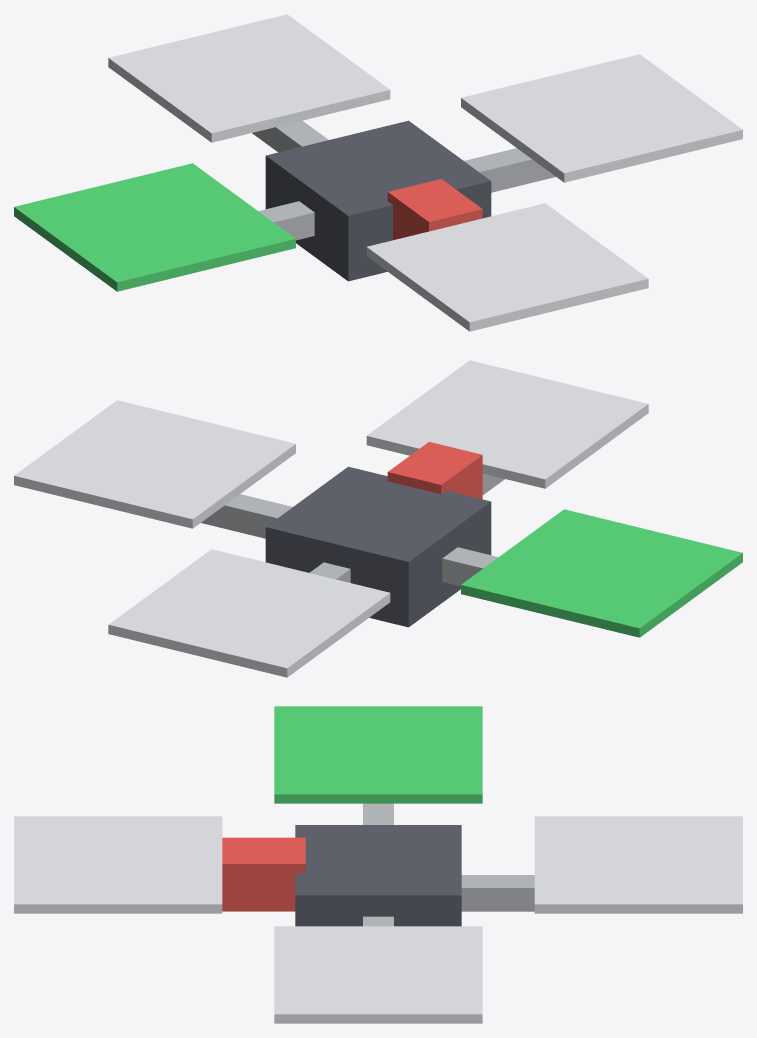
The model's file is drone.gltf.
The picture shows the model from 3 angles, top to bottom: view 1: azimuth 30°, elevation 25°; view 2: azimuth 150°, elevation 25°; view 3: azimuth 270°, elevation 25°; orthographic projection.
Parts seen in each view (by area): view 1: rotors, starboard, body, arms, nose; view 2: rotors, body, starboard, arms, nose; view 3: rotors, starboard, body, nose, arms.
Part boxes in pixels (x1,y1,x2,y2): rotors: [108, 14, 742, 331]; starboard: [14, 163, 295, 291]; body: [265, 120, 491, 281]; arms: [252, 120, 555, 240]; nose: [387, 179, 482, 240]; rotors: [14, 360, 648, 677]; body: [265, 466, 491, 627]; starboard: [461, 509, 742, 637]; arms: [201, 473, 504, 586]; nose: [387, 442, 482, 499]; rotors: [14, 816, 742, 1023]; starboard: [274, 706, 482, 803]; body: [295, 825, 461, 926]; nose: [222, 837, 305, 911]; arms: [222, 803, 534, 926].
Size of the model in its own units: 0.7 by 0.08 by 0.7.
